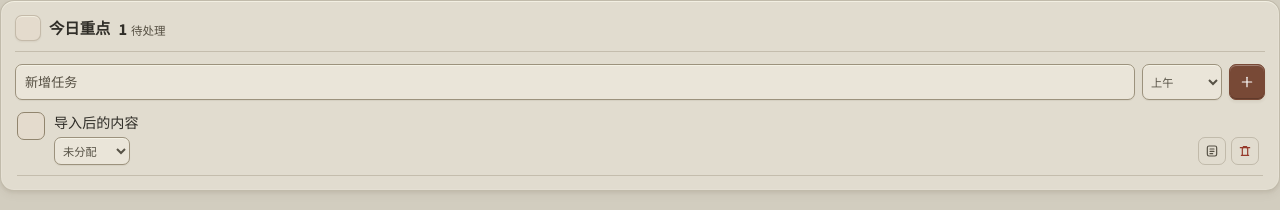
it: TaskList › starts editing from the latest task text after data replacement
Click the button named "编辑“导入后的内容”" at x=1212, y=151, box [1198,137,1226,165]
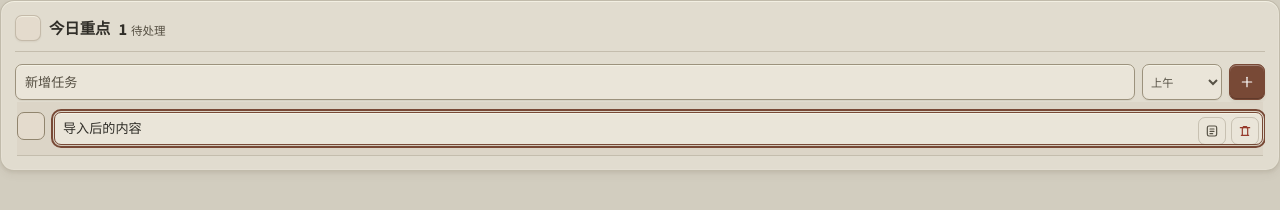
Expected: the field named "编辑任务内容" holds "导入后的内容", [54,112,1263,145]
